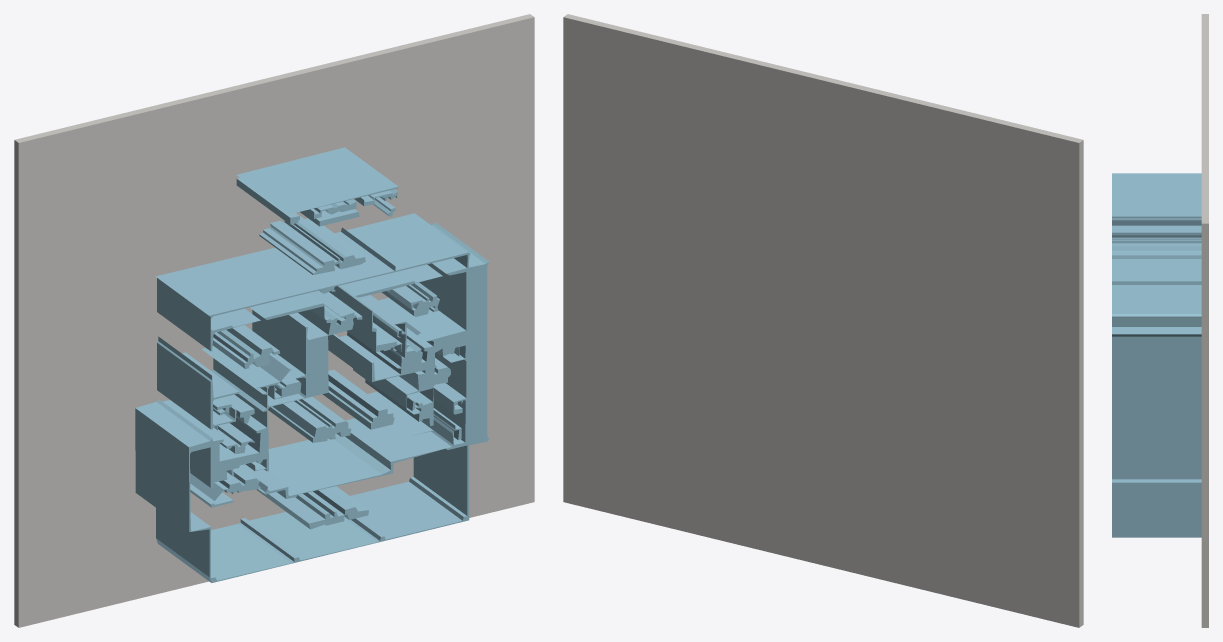
3 views of the same model, side by side, from view 1: azimuth 30°, elevation 25°; view 2: azimuth 150°, elevation 25°; view 3: azimuth 270°, elevation 25° (orthographic). The views are drawn at different scales.
Visible parts, largest first — view 1: world; view 2: world; view 3: world.
Part boxes in pixels (x1=…): world: x1=14, y1=14, x2=534, y2=627; world: x1=563, y1=14, x2=1083, y2=627; world: x1=1112, y1=14, x2=1208, y2=627.
Bounding box in the file's own units: 10.23 × 9.19 × 2.
